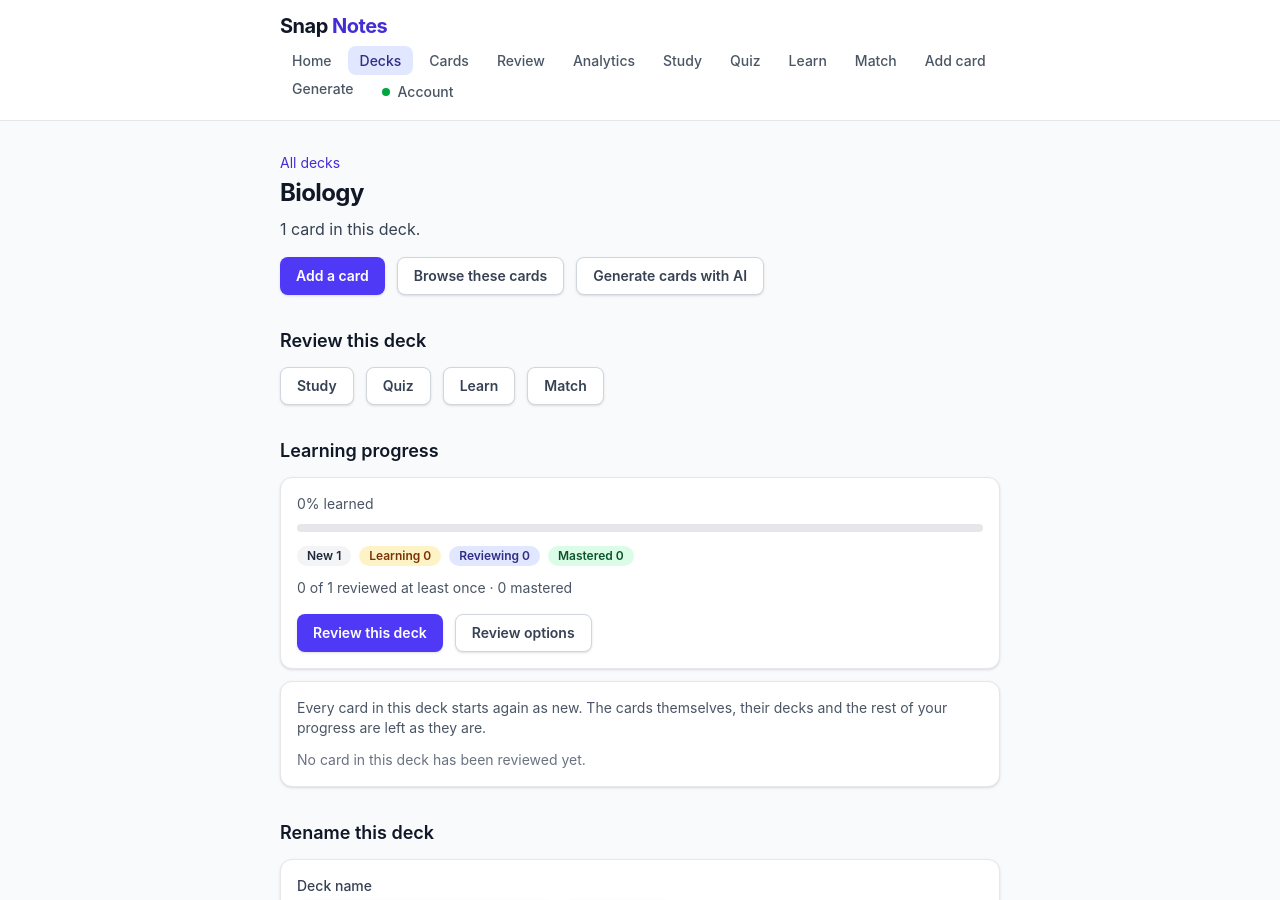
Test case: getting to the Generate page › is linked from a deck, with that deck chosen for saving
This screenshot has width=1280, height=900.
Click the link "Generate cards with AI": (670, 276) [576,257,764,295]
(page scrolled)
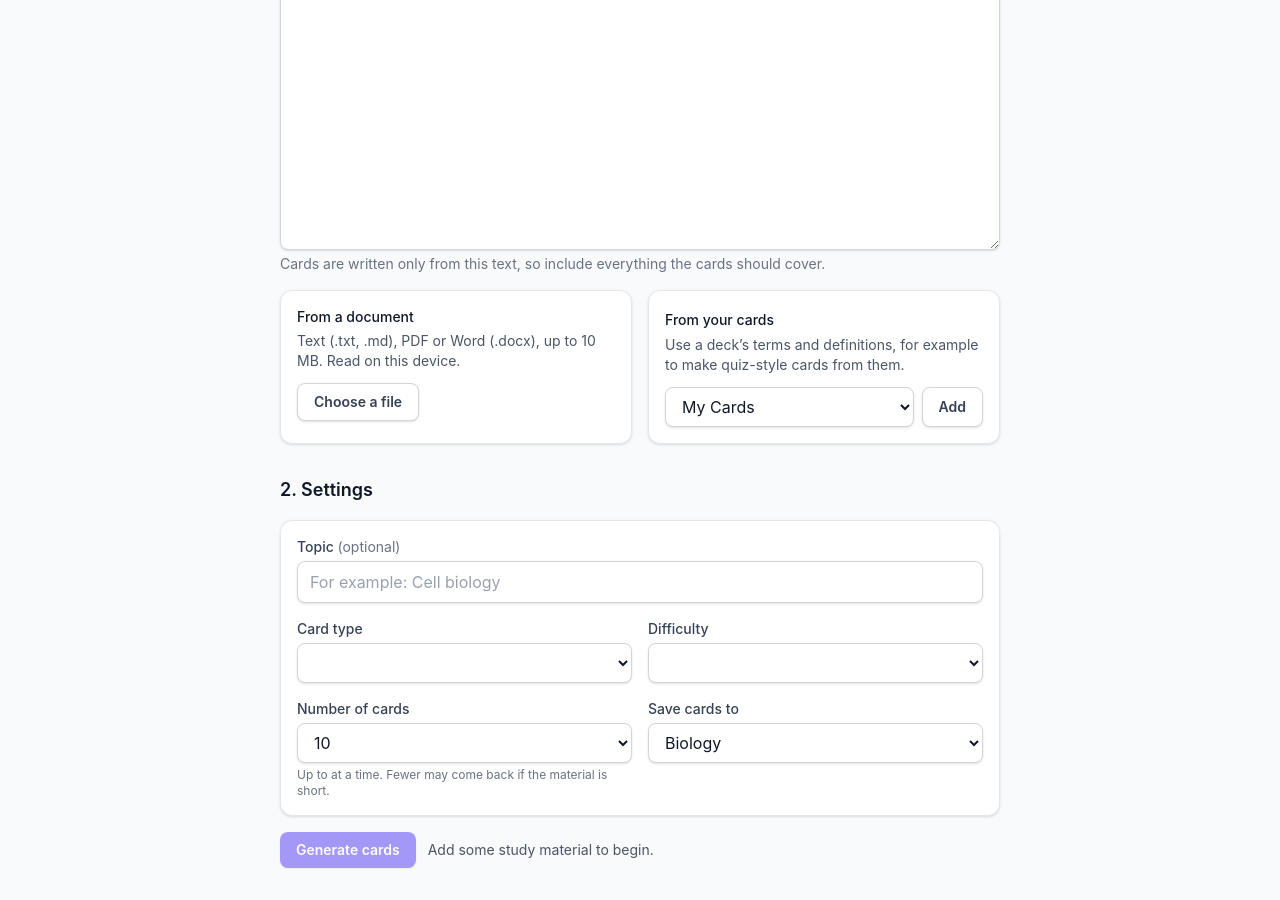
expect the dropdown labelled "Save cards to" shows "Biology": met, box [648,723,983,763]
